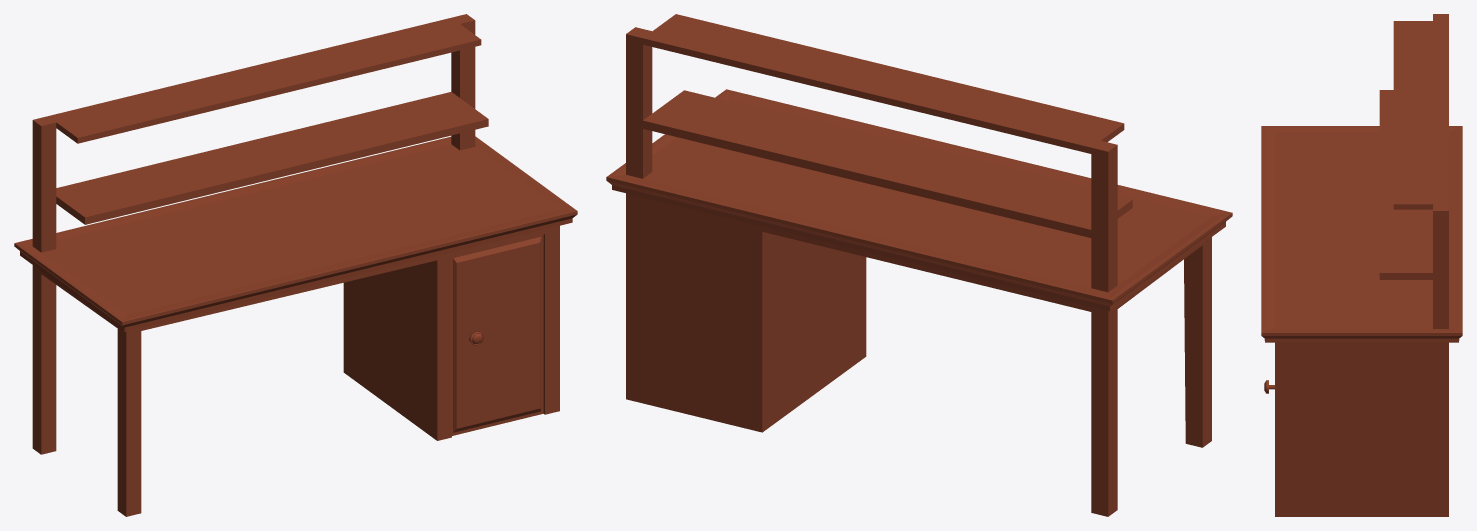
Rendered from S_Etablie.glb.
3 views of the same model, side by side, from view 1: azimuth 30°, elevation 25°; view 2: azimuth 150°, elevation 25°; view 3: azimuth 270°, elevation 25° (orthographic). The views are drawn at different scales.
Parts seen in each view (by area): view 1: S_EtablieSerre, S_EtablieSerrePorte; view 2: S_EtablieSerre; view 3: S_EtablieSerre.
Part boxes in pixels (x1,y1,x2,y2): S_EtablieSerre: [14, 14, 577, 516]; S_EtablieSerrePorte: [453, 237, 540, 432]; S_EtablieSerre: [606, 14, 1232, 516]; S_EtablieSerre: [1261, 14, 1462, 516].
Size of the model in its own units: 1.92 by 1.32 by 0.7877.
